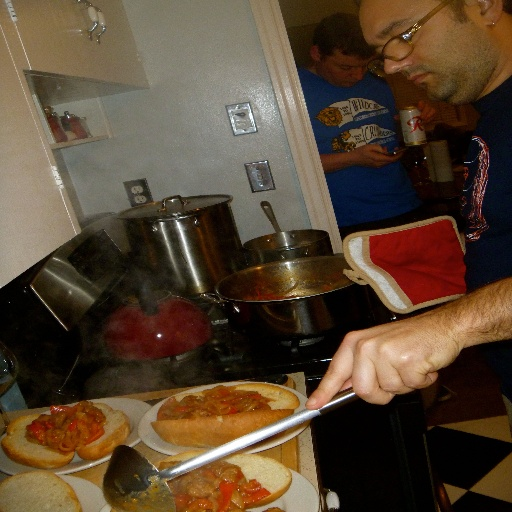hand: (320, 316, 435, 407), (351, 142, 404, 169), (392, 100, 437, 127)
